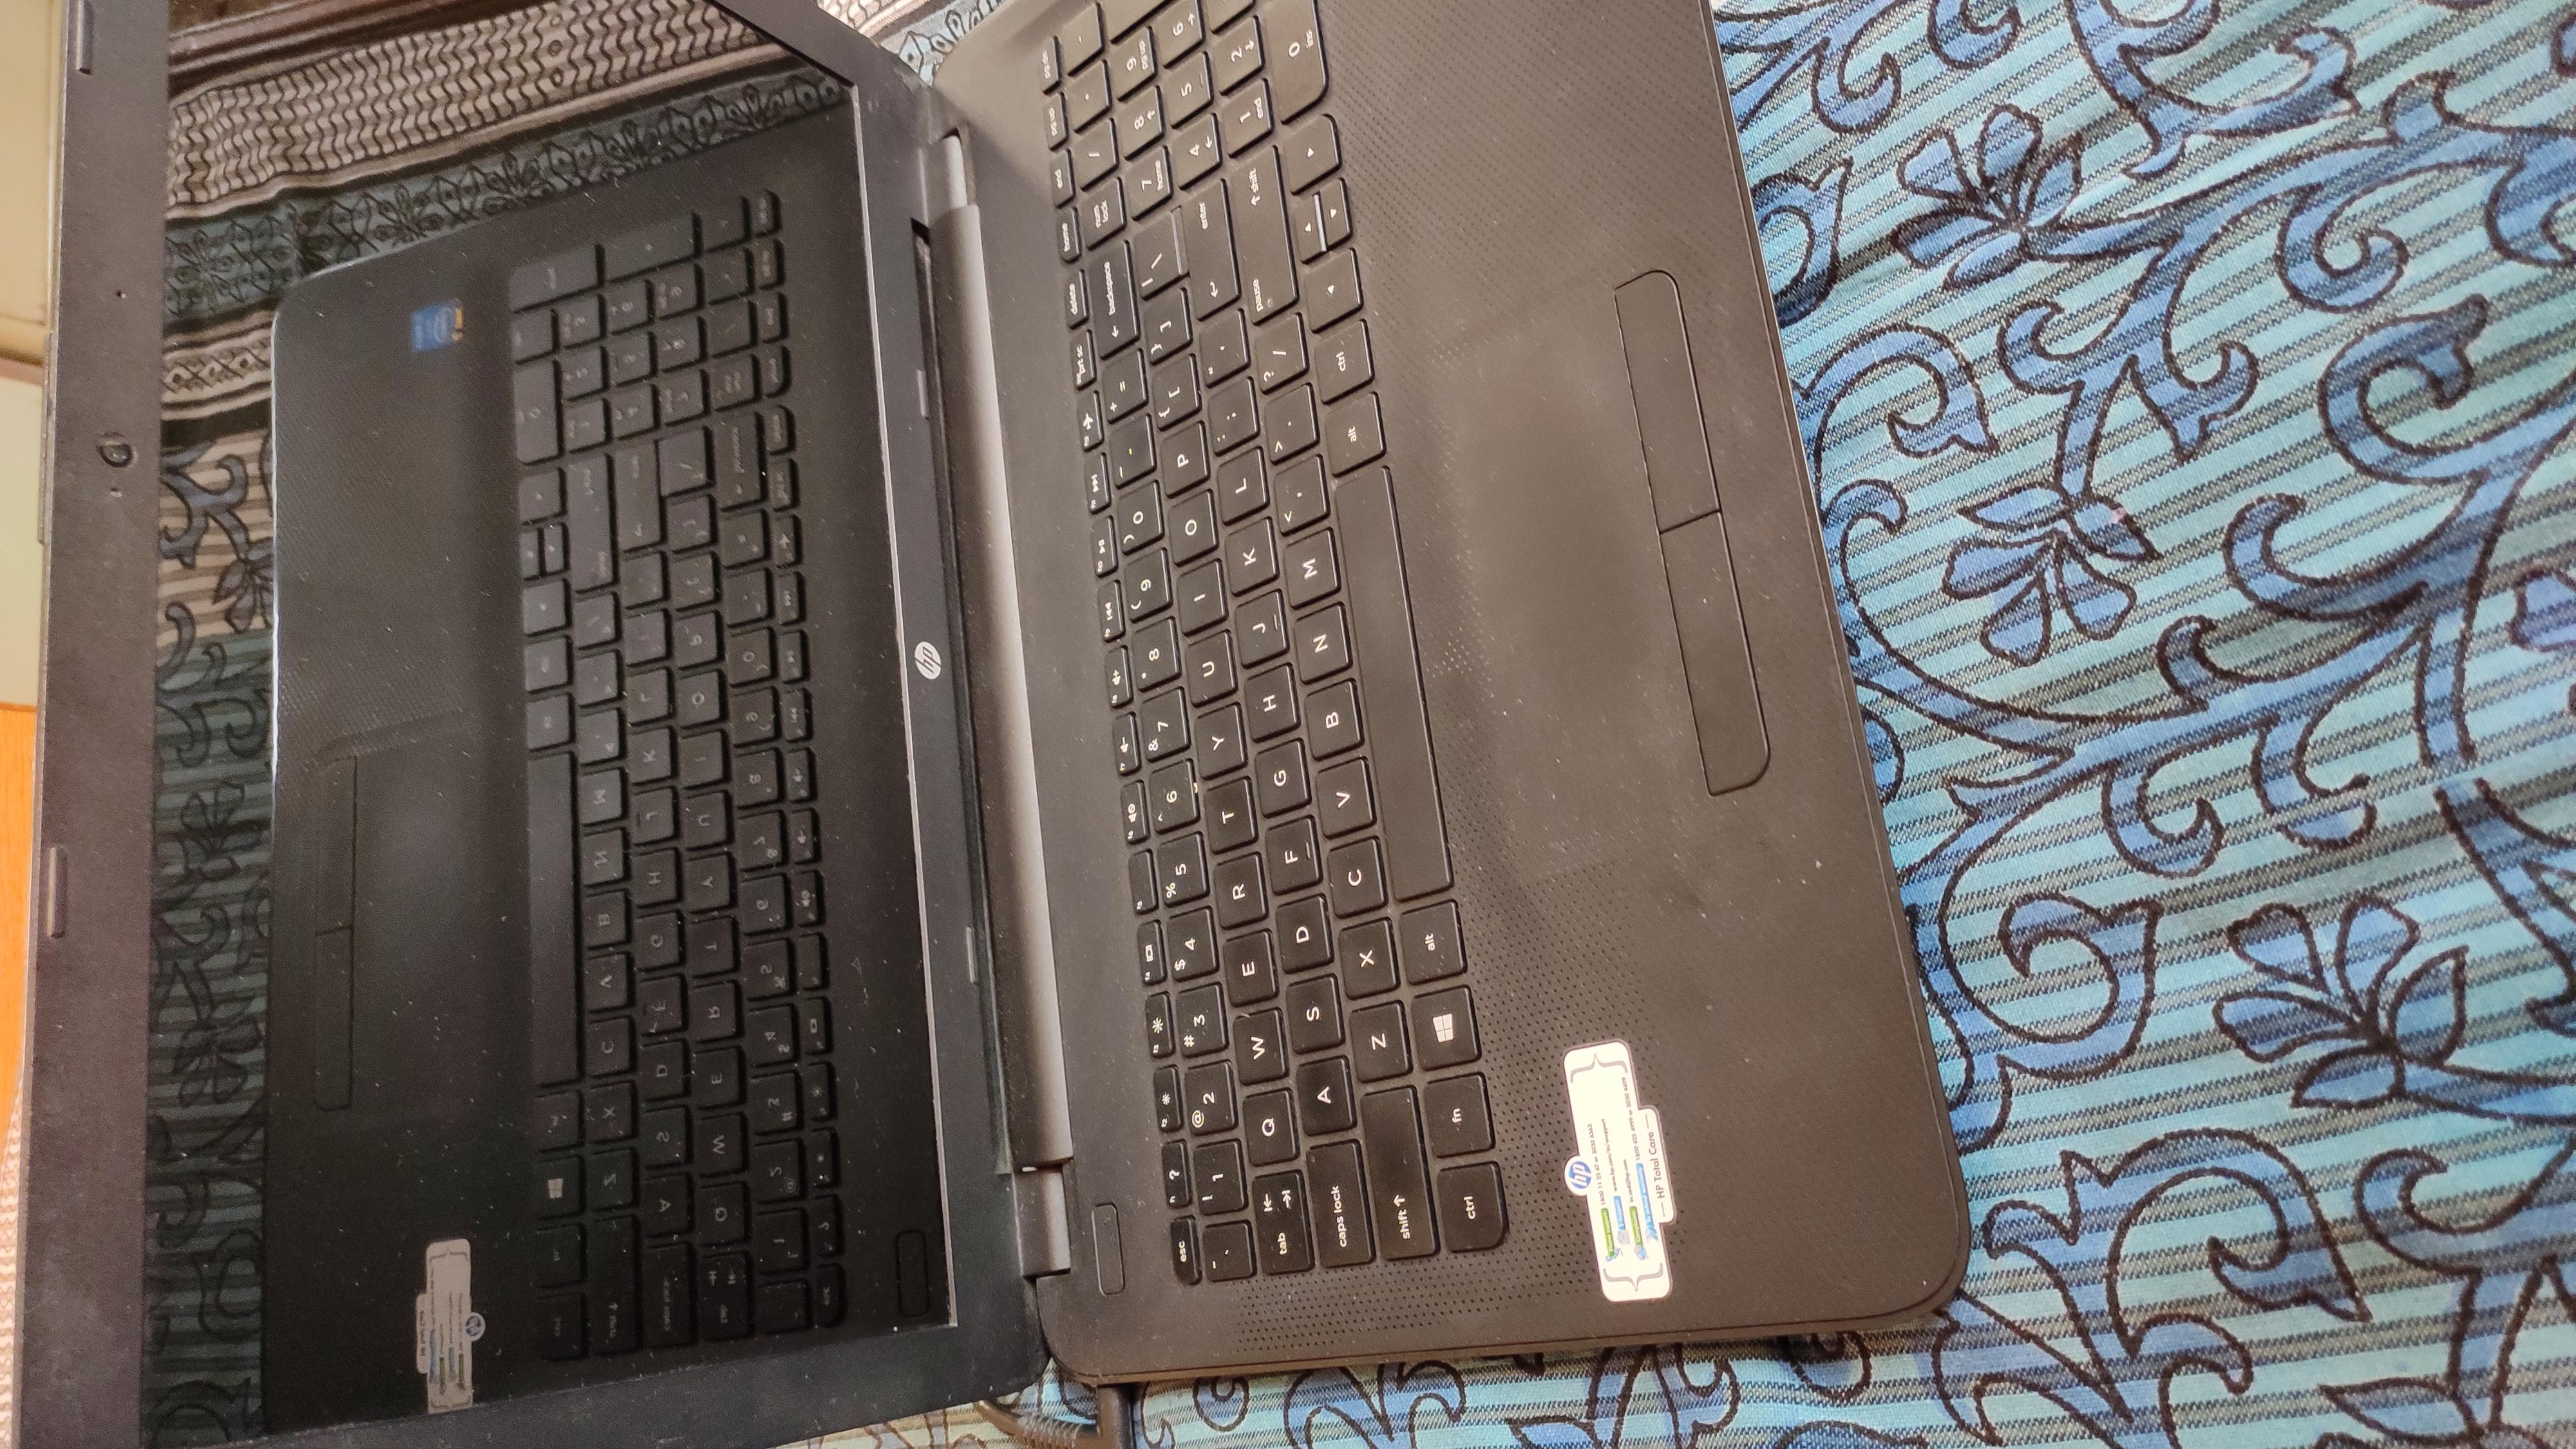laptop: (241, 0, 2013, 1447)
